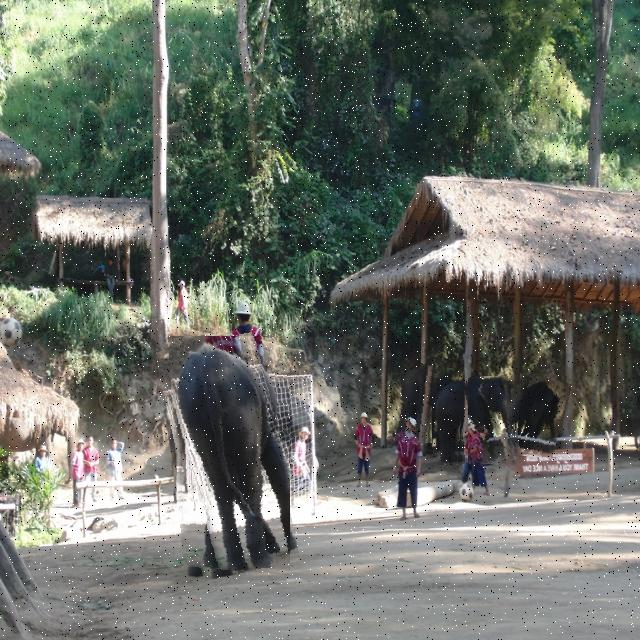elephant: (167, 336, 290, 577), (508, 376, 568, 457), (468, 376, 521, 466), (389, 362, 432, 444), (426, 373, 464, 465), (634, 380, 640, 454)
